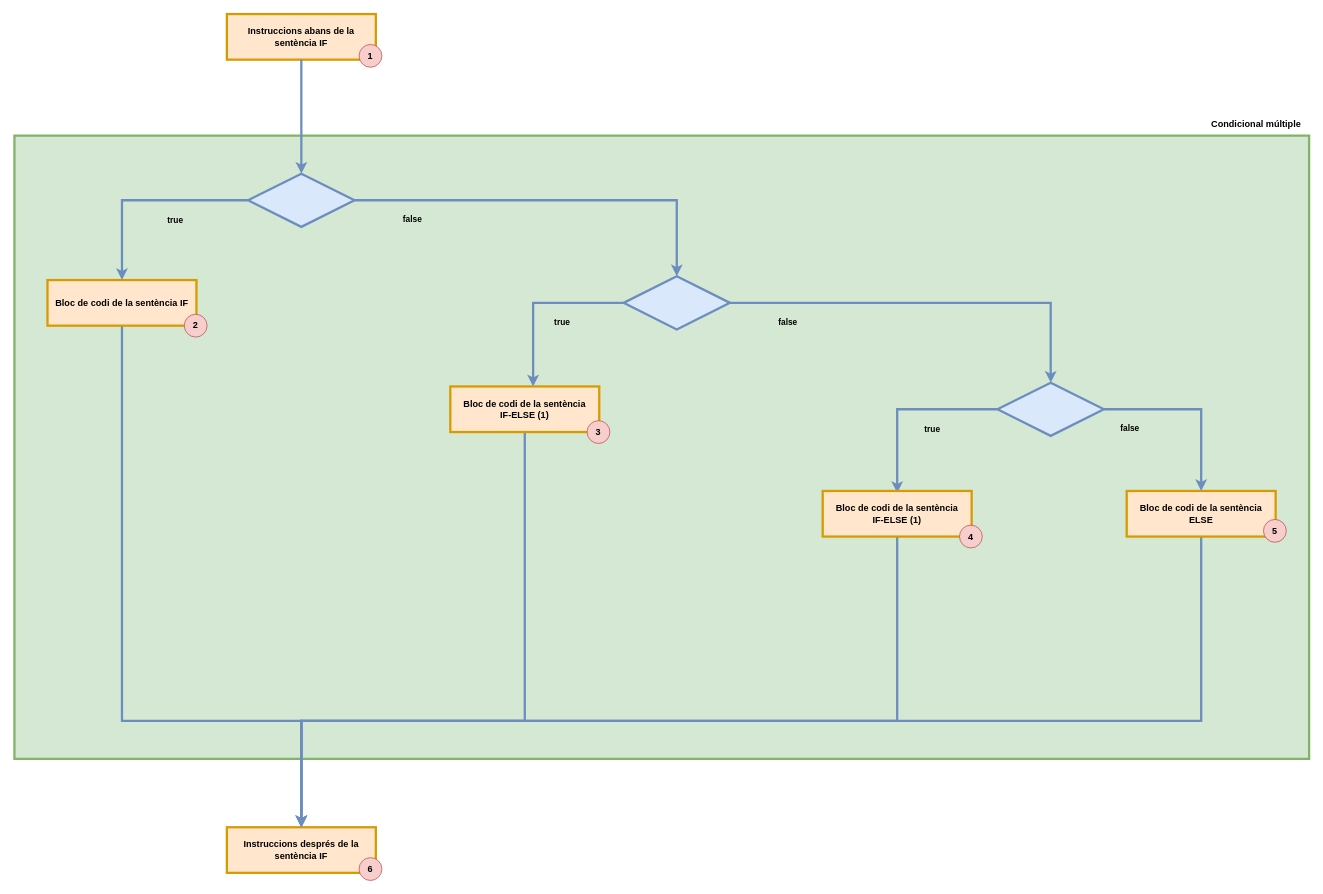
Some shapes in this 1323 by 894 pixel diagram are drawn without their labels. Each missing label, with the centre of its shape:
"condition1" belongs at point (301, 200).
"condition2" belongs at point (676, 302).
"condition3" belongs at point (1050, 409).
